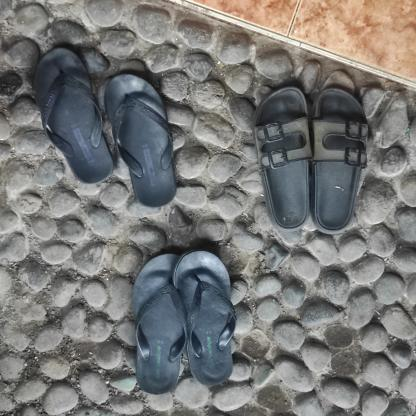Black Slide A: (312, 85, 371, 236), (252, 86, 312, 229)
Black Swallow A: (31, 47, 115, 186), (103, 73, 177, 208)
Black Swallow B: (131, 248, 189, 397), (173, 250, 234, 390)
